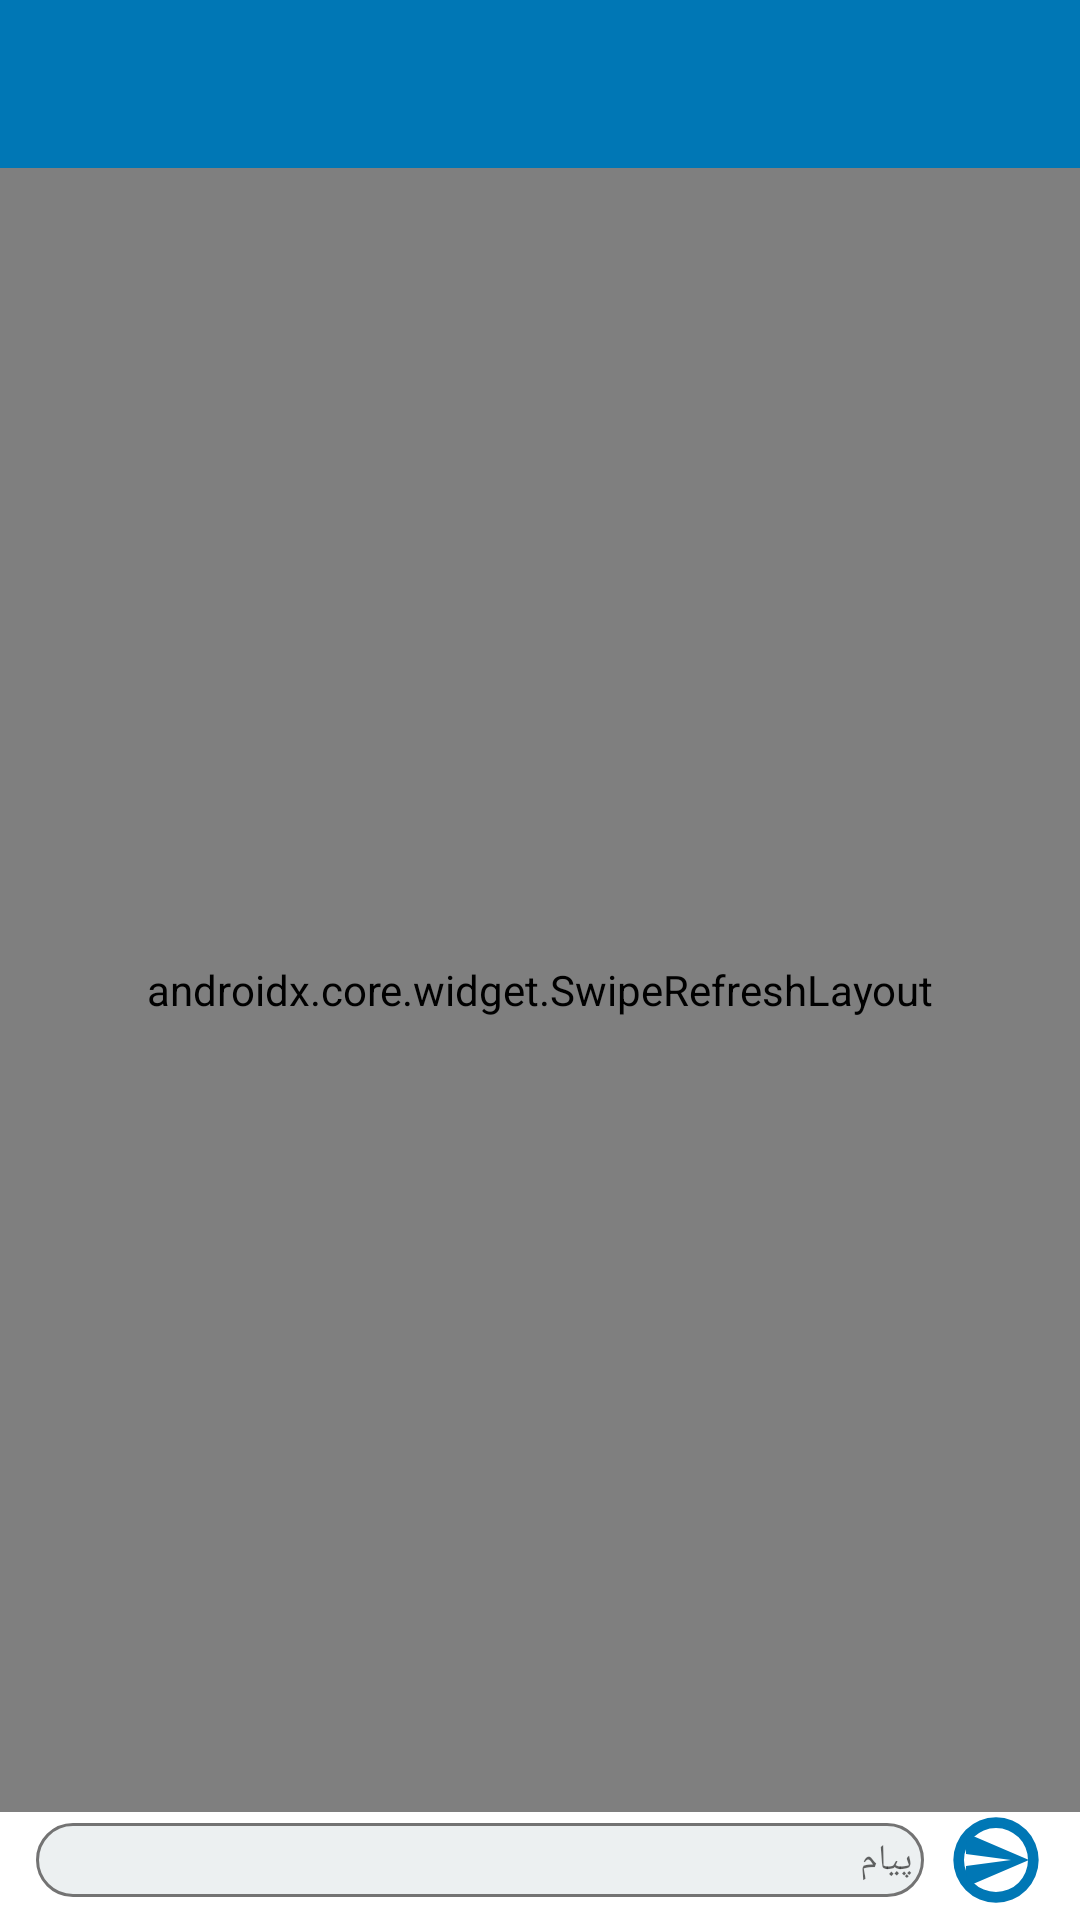

Where to tap for icons on this 1080 × 1920 app screen, as (x=x, y=y):
send: (x=996, y=1860)
